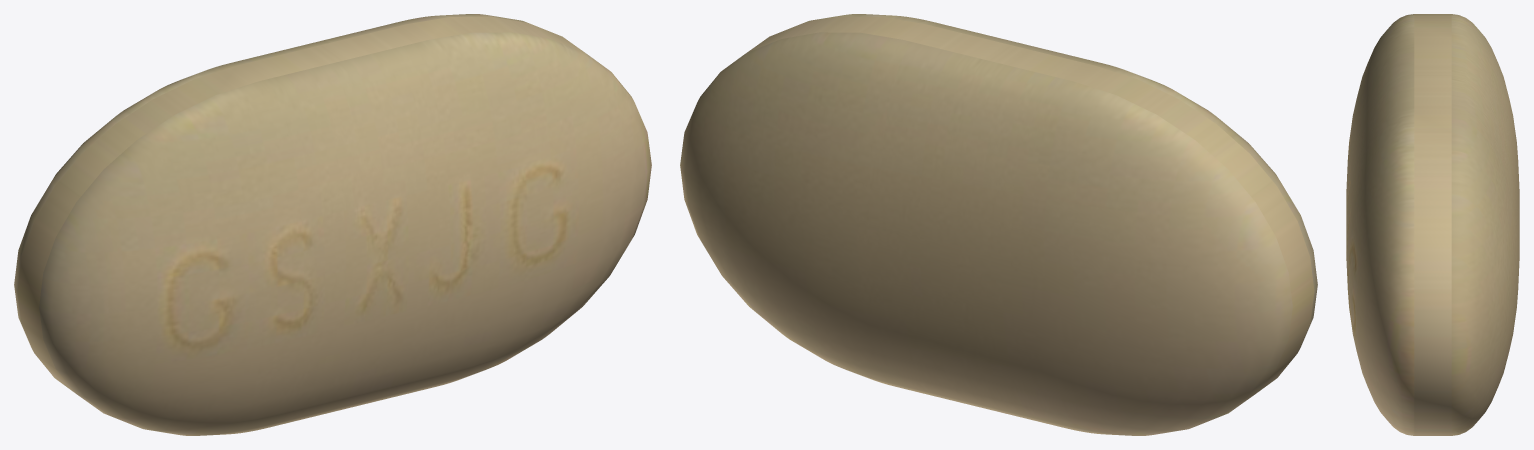
Rendered from 20160127GOPHDRGPT32357.fbx.
The picture shows the model from 3 angles, left to right: view 1: azimuth 30°, elevation 25°; view 2: azimuth 150°, elevation 25°; view 3: azimuth 270°, elevation 25°; orthographic projection. The views are drawn at different scales.
Visible parts, largest first — view 1: 球體.005; view 2: 球體.005; view 3: 球體.005.
Part boxes in pixels (x1,y1,x2,y2): 球體.005: [14, 14, 651, 435]; 球體.005: [680, 14, 1317, 435]; 球體.005: [1346, 14, 1519, 435].
Bounding box in the file's own units: 1.98 × 1.07 × 0.5626.
1 material, 1 textured.
